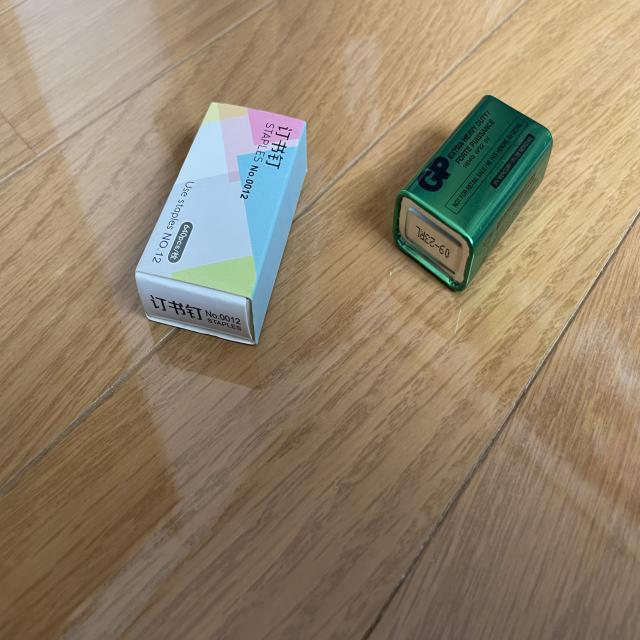9V: (392, 94, 554, 293)
